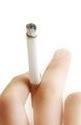smoke: (25, 23, 41, 108)
